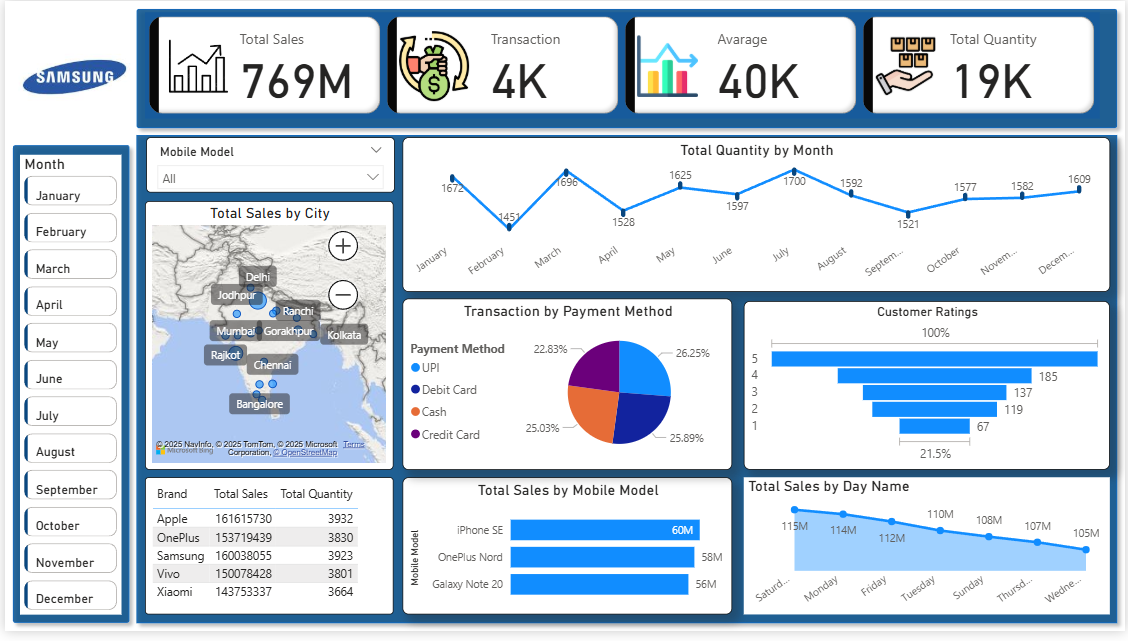

The page's visual inventory and layout, read from the dashboard file:
{"tool":"powerbi","page":{"name":"Page 1","canvas":[1280,720],"ordinal":0},"visuals":[{"type":"image","box":[0,0,159.7,174.2],"z":0},{"type":"shape","box":[0,155.8,151.2,564],"z":1000},{"type":"advancedSlicerVisual","fields":{"Values":["Sheet1.RunDate.Variation.Date Hierarchy.Month"]},"box":[17.7,175.8,116.1,525.8],"z":2000},{"type":"shape","box":[141.4,0,1138.6,154.3],"z":3000},{"type":"shape","box":[141.4,144.3,1138.6,575.7],"z":3500},{"type":"cardVisual","fields":{"Data":["Sheet1.Total Sales","Sheet1.Transaction","Sheet1.Avarage","Sheet1.Total Quantity"]},"box":[160,12.9,1091.4,121.4],"z":4000},{"type":"map","fields":{"Category":["Sheet1.City"],"Size":["Sheet1.Total Sales"]},"box":[160,228.6,284.3,307.1],"z":5000},{"type":"lineChart","fields":{"Category":["Sheet1.RunDate.Variation.Date Hierarchy.Month"],"Y":["Sheet1.Total Quantity"]},"box":[454.3,155.7,808.6,177.1],"z":5001},{"type":"barChart","fields":{"Category":["Sheet1.Mobile Model"],"Y":["Sheet1.Total Sales"]},"box":[454.3,544.3,377.1,157.1],"z":5002},{"type":"pieChart","fields":{"Y":["Sheet1.Transaction"],"Category":["Sheet1.Payment Method"]},"box":[454.3,340,377.1,195.7],"z":5003},{"type":"funnel","title":"Customer Ratings","fields":{"Category":["Sheet1.Customer Ratings"],"Y":["CountNonNull(Sheet1.Customer Ratings)"]},"box":[844.3,342.9,418.6,192.9],"z":5004},{"type":"areaChart","fields":{"Y":["Sheet1.Total Sales"],"Category":["Sheet1.Day Name"]},"box":[844.3,544.3,418.6,157.1],"z":5005},{"type":"tableEx","fields":{"Values":["Sheet1.Brand","Sheet1.Total Sales","Sheet1.Total Quantity"]},"box":[160,544.3,284.3,157.1],"z":5006},{"type":"slicer","fields":{"Values":["Sheet1.Mobile Model"]},"box":[161.4,155.7,284.3,62.9],"z":5007}]}

Visuals, with their boxes in screenshot pixels (x1, y1, x2, y2), scaled from the page's 1280x720 canvas onto the 1128x641 screenshot:
image: bbox=[0, 0, 141, 155]
shape: bbox=[0, 139, 133, 640]
advancedSlicerVisual - Sheet1.RunDate.Variation.Date Hierarchy.Month: bbox=[16, 157, 118, 625]
shape: bbox=[125, 0, 1127, 137]
shape: bbox=[125, 128, 1127, 640]
cardVisual - Sheet1.Total Sales x Sheet1.Transaction: bbox=[141, 11, 1103, 120]
map - Sheet1.City x Sheet1.Total Sales: bbox=[141, 204, 392, 477]
lineChart - Sheet1.RunDate.Variation.Date Hierarchy.Month x Sheet1.Total Quantity: bbox=[400, 139, 1113, 296]
barChart - Sheet1.Mobile Model x Sheet1.Total Sales: bbox=[400, 485, 733, 624]
pieChart - Sheet1.Transaction x Sheet1.Payment Method: bbox=[400, 303, 733, 477]
"Customer Ratings" funnel: bbox=[744, 305, 1113, 477]
areaChart - Sheet1.Total Sales x Sheet1.Day Name: bbox=[744, 485, 1113, 624]
tableEx - Sheet1.Brand x Sheet1.Total Sales: bbox=[141, 485, 392, 624]
slicer - Sheet1.Mobile Model: bbox=[142, 139, 393, 195]
